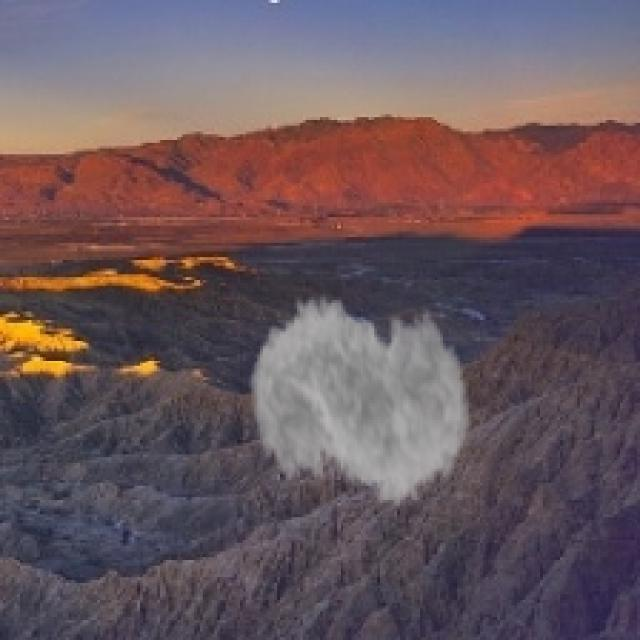Smoke: (248, 268, 472, 526)
